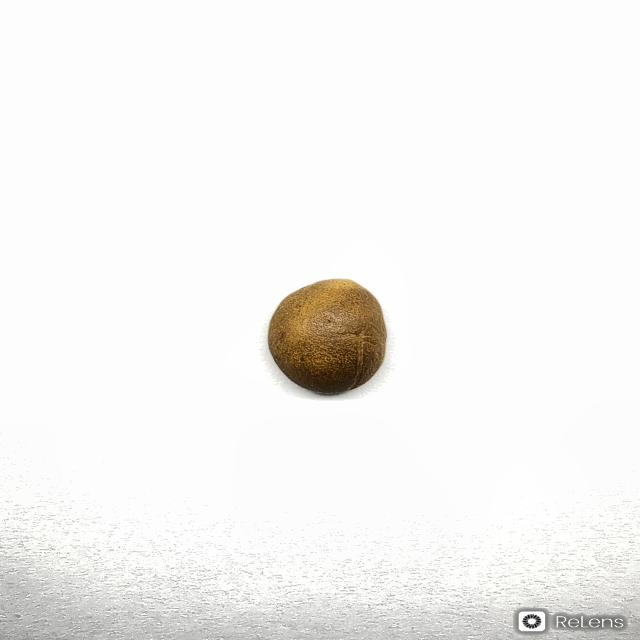Quaker: (266, 277, 388, 395)
